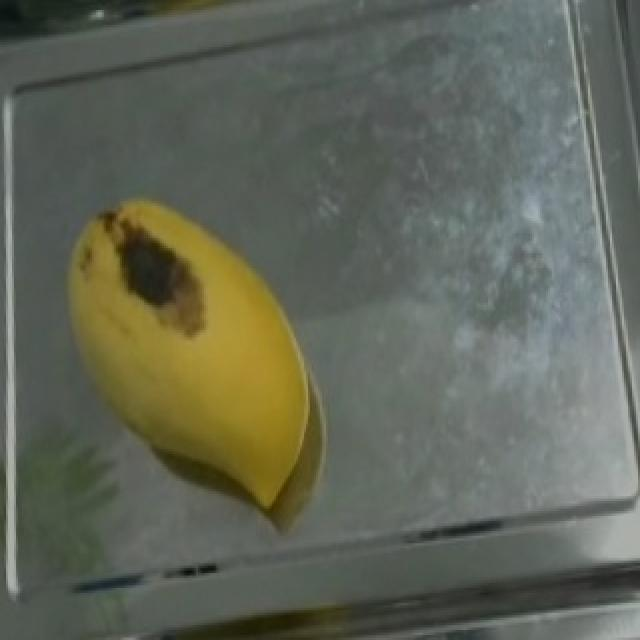fruit: (36, 186, 364, 541)
